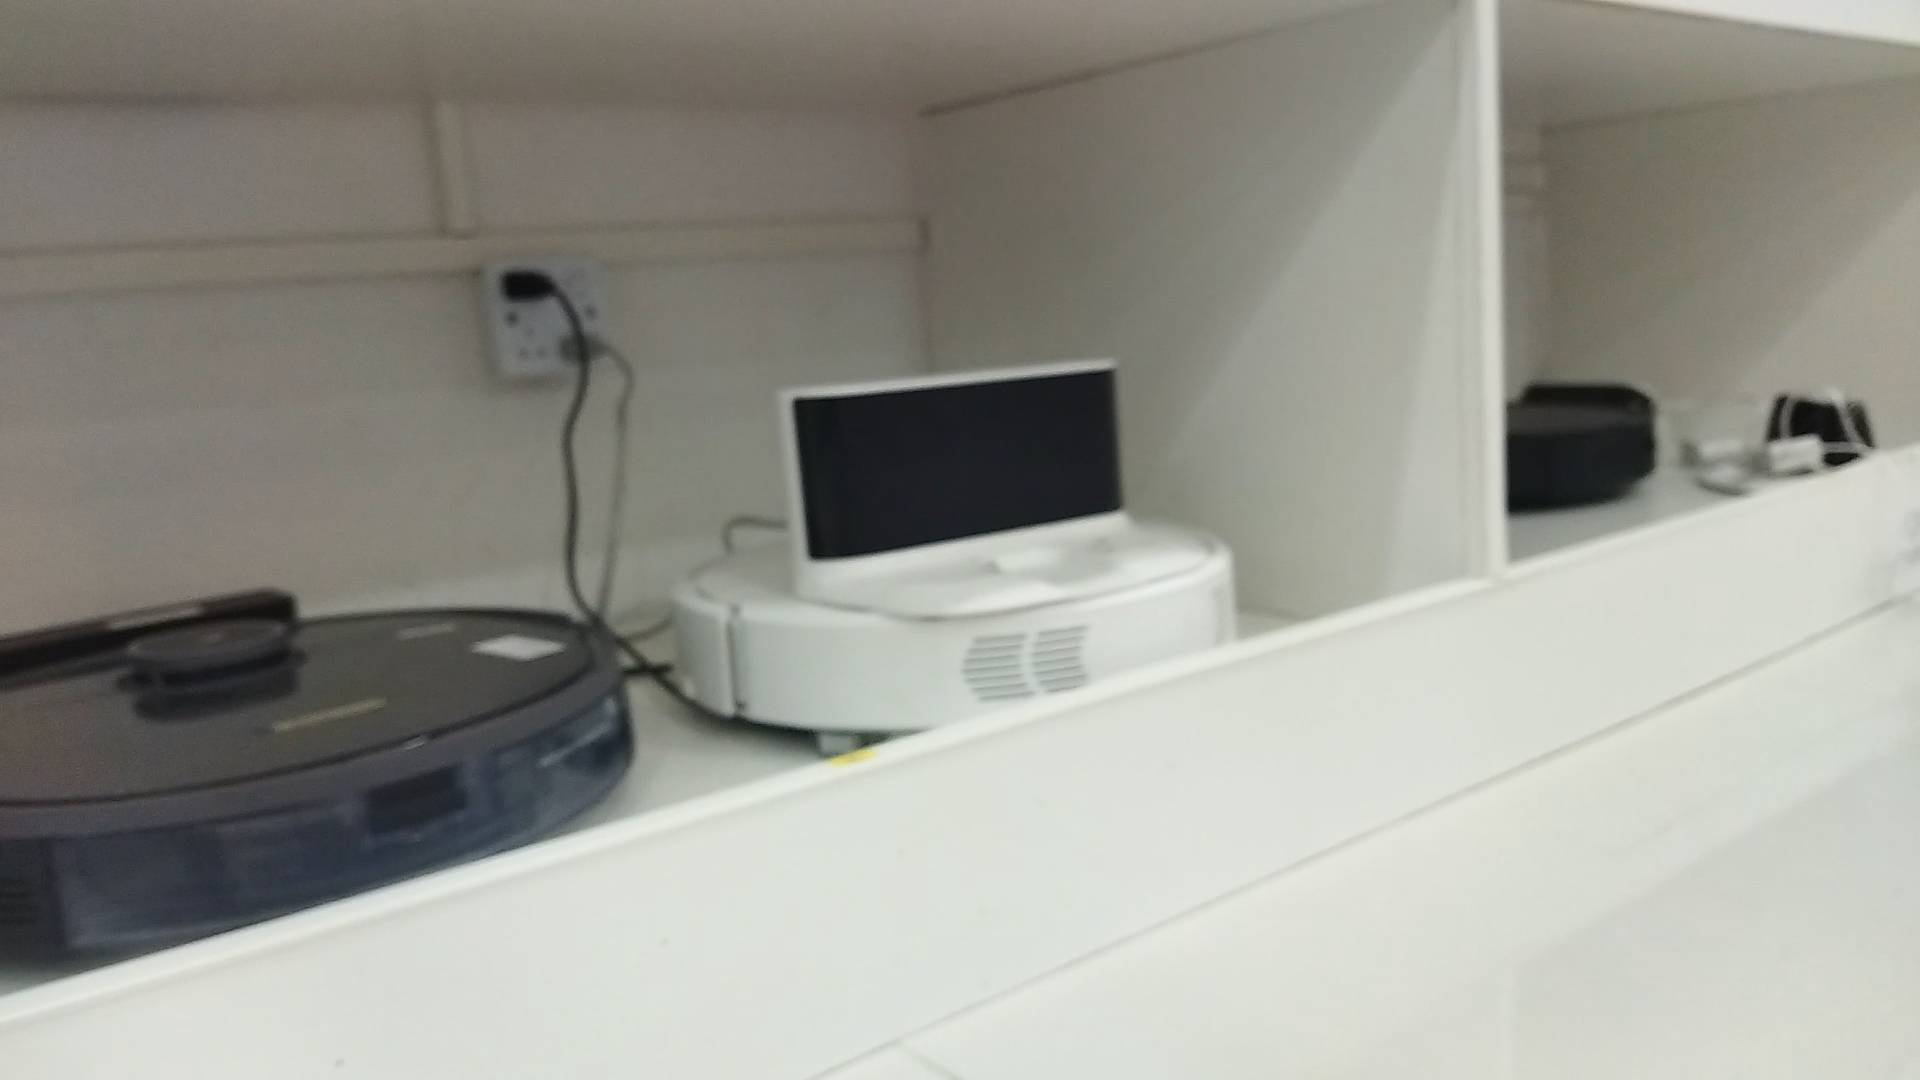recharge seat: (775, 355, 1211, 622)
